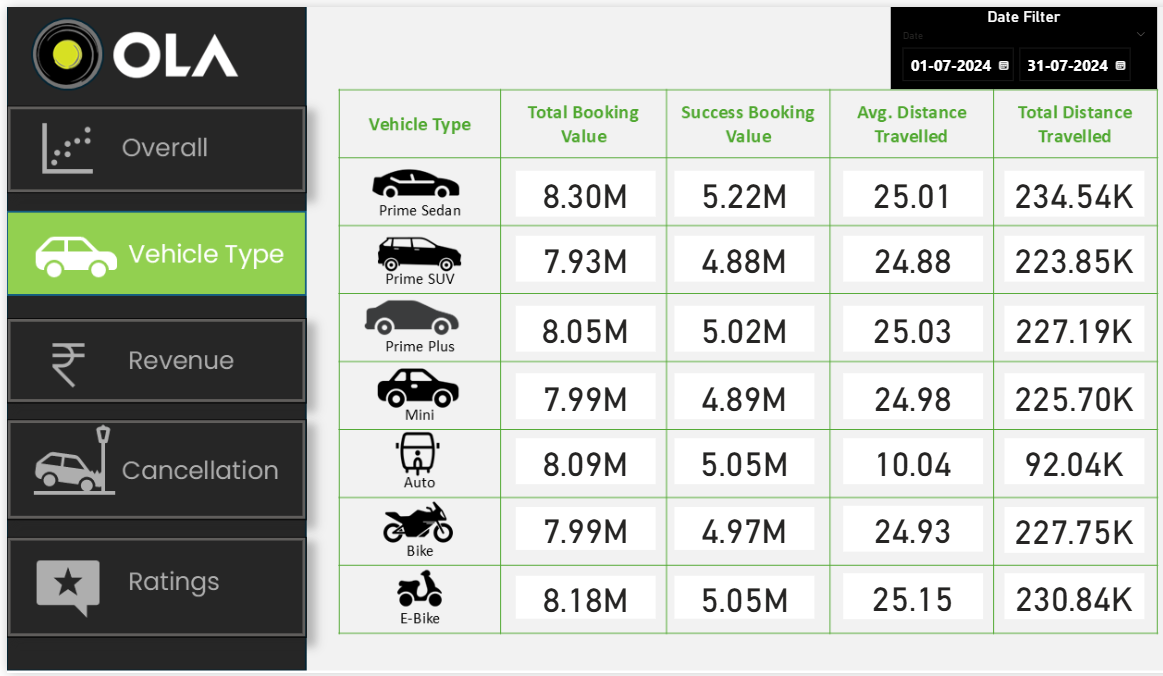

Layout of this report page (visuals, bound fields, positions):
{"tool":"powerbi","page":{"name":"Vehicle Type","canvas":[1280,720],"ordinal":1},"visuals":[{"type":"actionButton","box":[0,446,323.8,108.4],"z":0},{"type":"actionButton","box":[0,336.2,323.8,91.9],"z":1000},{"type":"actionButton","box":[0,573.6,323.8,108.4],"z":2000},{"type":"actionButton","box":[0,107,323.8,94.7],"z":3000},{"type":"card","fields":{"Values":["Sum(Bookings.Booking_Value)"]},"box":[550.3,177,150.9,49.4],"z":4000},{"type":"card","fields":{"Values":["Sum(Bookings.Booking_Value)"]},"box":[550.3,247,150.9,49.4],"z":5000},{"type":"card","fields":{"Values":["Sum(Bookings.Booking_Value)"]},"box":[550.3,322.5,150.9,49.4],"z":6000},{"type":"card","fields":{"Values":["Sum(Bookings.Booking_Value)"]},"box":[550.3,396.6,150.9,49.4],"z":7000},{"type":"card","fields":{"Values":["Sum(Bookings.Booking_Value)"]},"box":[550.3,466.6,150.9,49.4],"z":8000},{"type":"card","fields":{"Values":["Sum(Bookings.Booking_Value)"]},"box":[550.3,540.7,150.9,46.7],"z":9000},{"type":"card","fields":{"Values":["Sum(Bookings.Booking_Value)"]},"box":[550.3,614.8,150.9,46.7],"z":10000},{"type":"card","fields":{"Values":["Sum(Bookings.Booking_Value)"]},"box":[721.8,177,150.9,49.4],"z":11000},{"type":"card","fields":{"Values":["Sum(Bookings.Booking_Value)"]},"box":[721.8,247,150.9,49.4],"z":12000},{"type":"card","fields":{"Values":["Sum(Bookings.Booking_Value)"]},"box":[721.8,322.5,150.9,49.4],"z":13000},{"type":"card","fields":{"Values":["Sum(Bookings.Booking_Value)"]},"box":[721.8,396.6,150.9,49.4],"z":14000},{"type":"card","fields":{"Values":["Sum(Bookings.Booking_Value)"]},"box":[721.8,466.6,150.9,49.4],"z":15000},{"type":"card","fields":{"Values":["Sum(Bookings.Booking_Value)"]},"box":[721.8,540.7,150.9,46.7],"z":16000},{"type":"card","fields":{"Values":["Sum(Bookings.Booking_Value)"]},"box":[721.8,614.8,150.9,46.7],"z":17000},{"type":"card","fields":{"Values":["Avg(Bookings.Ride_Distance)"]},"box":[904.3,177,150.9,49.4],"z":18000},{"type":"card","fields":{"Values":["Avg(Bookings.Ride_Distance)"]},"box":[904.3,247,150.9,49.4],"z":19000},{"type":"card","fields":{"Values":["Avg(Bookings.Ride_Distance)"]},"box":[904.3,322.5,150.9,49.4],"z":20000},{"type":"card","fields":{"Values":["Avg(Bookings.Ride_Distance)"]},"box":[904.3,396.6,150.9,49.4],"z":21000},{"type":"card","fields":{"Values":["Avg(Bookings.Ride_Distance)"]},"box":[904.3,466.6,150.9,49.4],"z":22000},{"type":"card","fields":{"Values":["Avg(Bookings.Ride_Distance)"]},"box":[904.3,539.3,150.9,49.4],"z":23000},{"type":"card","fields":{"Values":["Avg(Bookings.Ride_Distance)"]},"box":[904.3,612,150.9,49.4],"z":24000},{"type":"card","fields":{"Values":["Sum(Bookings.Ride_Distance)"]},"box":[1078.6,177,150.9,49.4],"z":25000},{"type":"card","fields":{"Values":["Sum(Bookings.Ride_Distance)"]},"box":[1078.6,247,150.9,49.4],"z":26000},{"type":"card","fields":{"Values":["Sum(Bookings.Ride_Distance)"]},"box":[1078.6,322.5,150.9,49.4],"z":27000},{"type":"card","fields":{"Values":["Sum(Bookings.Ride_Distance)"]},"box":[1078.6,396.6,150.9,49.4],"z":28000},{"type":"card","fields":{"Values":["Sum(Bookings.Ride_Distance)"]},"box":[1078.6,466.6,150.9,49.4],"z":29000},{"type":"card","fields":{"Values":["Sum(Bookings.Ride_Distance)"]},"box":[1078.6,540.7,150.9,49.4],"z":30000},{"type":"card","fields":{"Values":["Sum(Bookings.Ride_Distance)"]},"box":[1078.6,612,150.9,49.4],"z":31000},{"type":"slicer","title":"Date Filter","fields":{"Values":["Bookings.Date"]},"box":[955.4,0,287.8,89.2],"z":32000}]}

Visuals, with their boxes on the page's 1280x720 design canvas (x1, y1, x2, y2). These are canvas units, not pixel positions in the 1163x676 screenshot, which may show the page scaled, cropped or inside an application window:
actionButton: (0,446,324,554)
actionButton: (0,336,324,428)
actionButton: (0,574,324,682)
actionButton: (0,107,324,202)
card - Sum(Bookings.Booking_Value): (550,177,701,226)
card - Sum(Bookings.Booking_Value): (550,247,701,296)
card - Sum(Bookings.Booking_Value): (550,322,701,372)
card - Sum(Bookings.Booking_Value): (550,397,701,446)
card - Sum(Bookings.Booking_Value): (550,467,701,516)
card - Sum(Bookings.Booking_Value): (550,541,701,587)
card - Sum(Bookings.Booking_Value): (550,615,701,662)
card - Sum(Bookings.Booking_Value): (722,177,873,226)
card - Sum(Bookings.Booking_Value): (722,247,873,296)
card - Sum(Bookings.Booking_Value): (722,322,873,372)
card - Sum(Bookings.Booking_Value): (722,397,873,446)
card - Sum(Bookings.Booking_Value): (722,467,873,516)
card - Sum(Bookings.Booking_Value): (722,541,873,587)
card - Sum(Bookings.Booking_Value): (722,615,873,662)
card - Avg(Bookings.Ride_Distance): (904,177,1055,226)
card - Avg(Bookings.Ride_Distance): (904,247,1055,296)
card - Avg(Bookings.Ride_Distance): (904,322,1055,372)
card - Avg(Bookings.Ride_Distance): (904,397,1055,446)
card - Avg(Bookings.Ride_Distance): (904,467,1055,516)
card - Avg(Bookings.Ride_Distance): (904,539,1055,589)
card - Avg(Bookings.Ride_Distance): (904,612,1055,661)
card - Sum(Bookings.Ride_Distance): (1079,177,1230,226)
card - Sum(Bookings.Ride_Distance): (1079,247,1230,296)
card - Sum(Bookings.Ride_Distance): (1079,322,1230,372)
card - Sum(Bookings.Ride_Distance): (1079,397,1230,446)
card - Sum(Bookings.Ride_Distance): (1079,467,1230,516)
card - Sum(Bookings.Ride_Distance): (1079,541,1230,590)
card - Sum(Bookings.Ride_Distance): (1079,612,1230,661)
"Date Filter" slicer: (955,0,1243,89)
